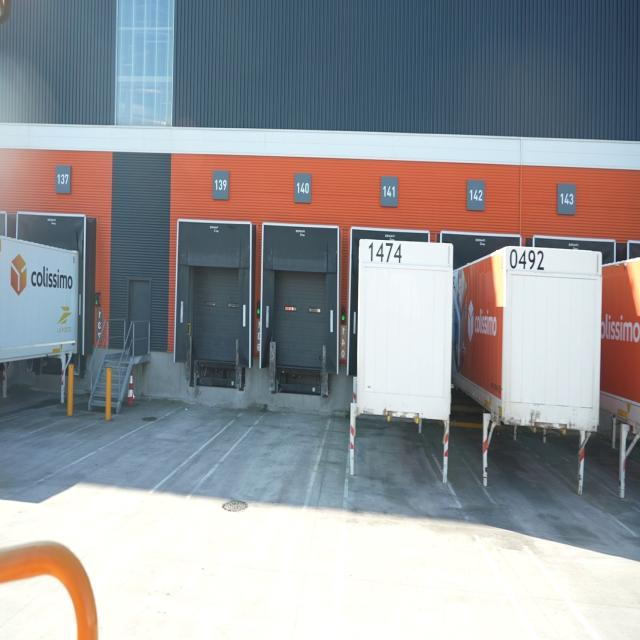Code: (506, 242, 546, 277), (366, 239, 404, 267)
